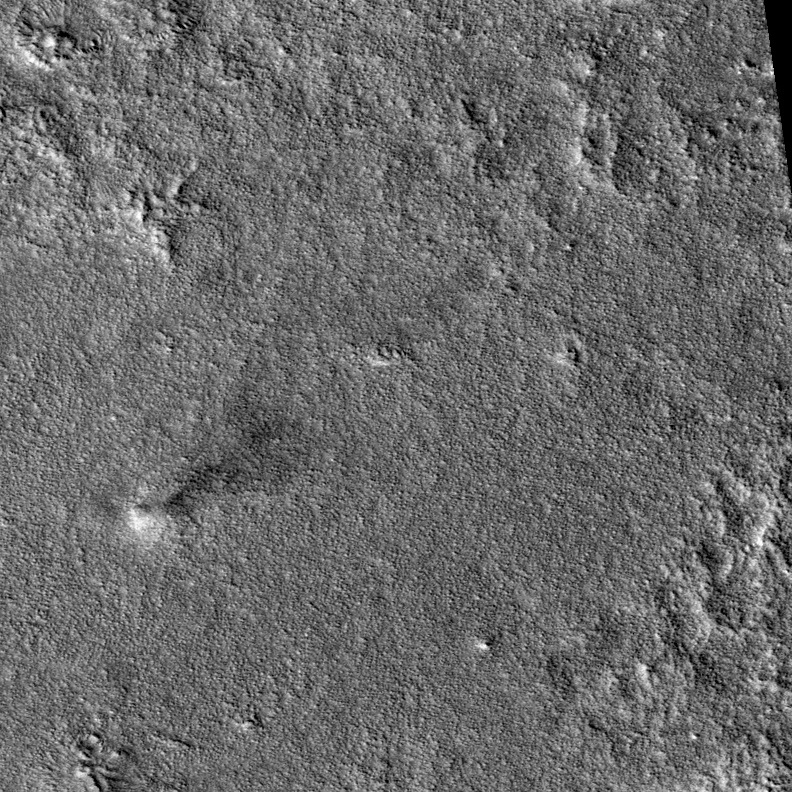dust_devil: (122, 415, 308, 537)
